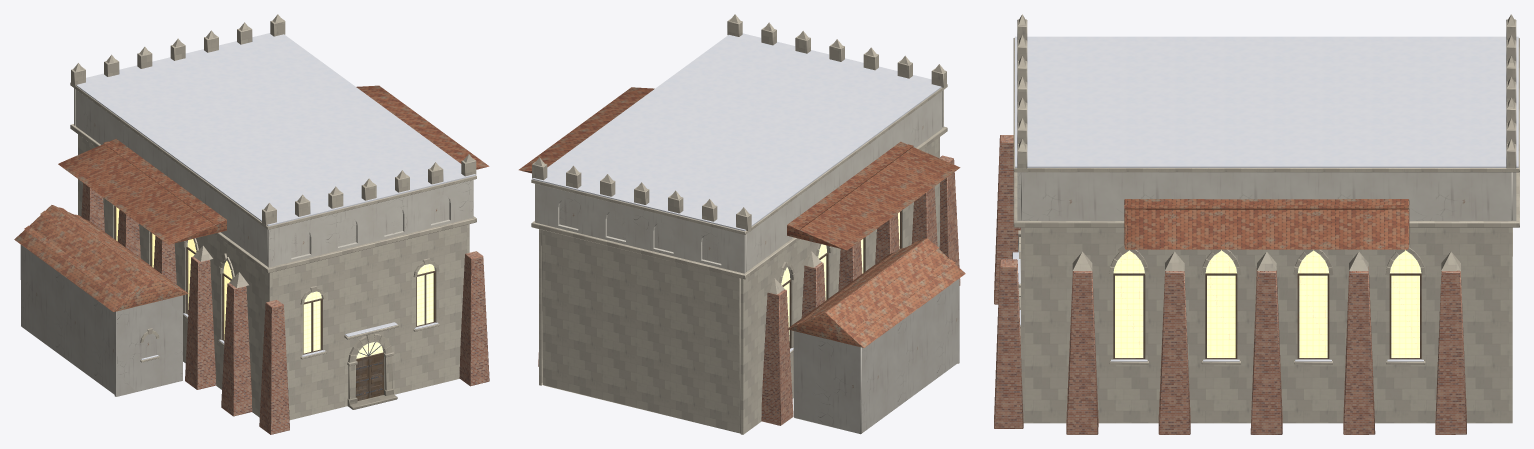
The model's file is kaz_synagogue.glb.
3 renders of one model, left to right at view 1: azimuth 30°, elevation 25°; view 2: azimuth 150°, elevation 25°; view 3: azimuth 270°, elevation 25°, orthographic. The views are drawn at different scales.
Parts seen in each view (by area): view 1: kaz_synagogue; view 2: kaz_synagogue; view 3: kaz_synagogue.
Part boxes in pixels (left/top/right/bottom): kaz_synagogue: left=14, top=14, right=489, bottom=434; kaz_synagogue: left=519, top=14, right=965, bottom=434; kaz_synagogue: left=994, top=14, right=1519, bottom=434.
Size of what is drawn, in the model's own units: 21.14 by 12.78 by 21.4.
13 materials, 13 textured.
